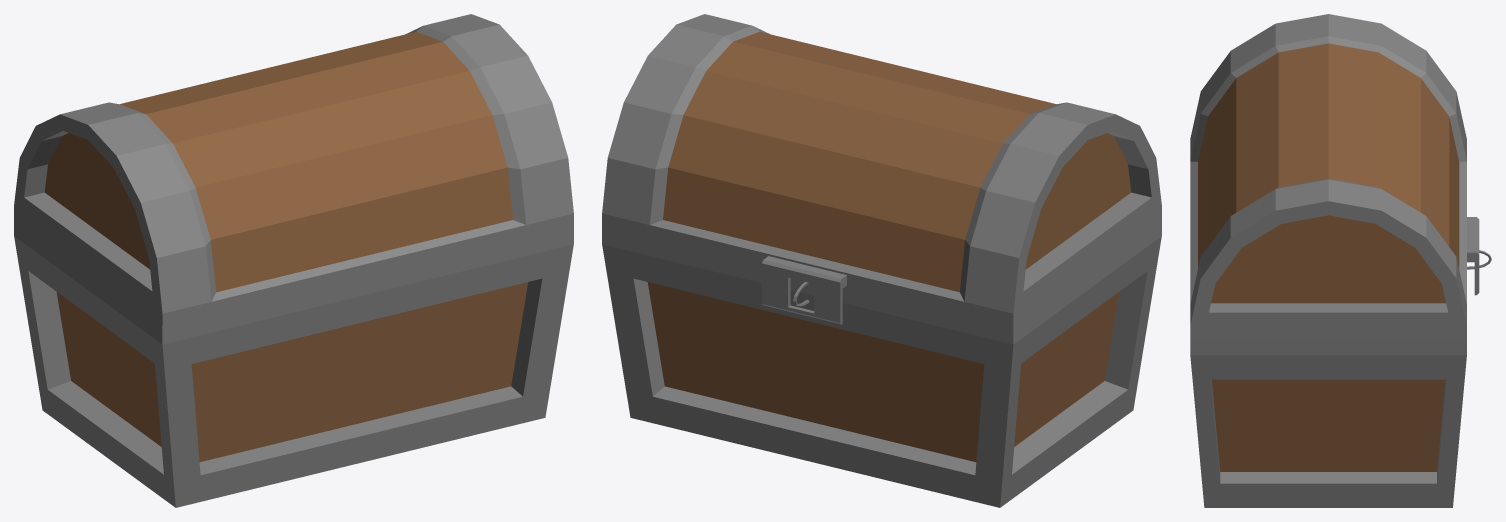
The model's file is Kiste1.glb.
The picture shows the model from 3 angles, left to right: view 1: azimuth 30°, elevation 25°; view 2: azimuth 150°, elevation 25°; view 3: azimuth 270°, elevation 25°; orthographic projection. The views are drawn at different scales.
Parts seen in each view (by area): view 1: Circle, Bund; view 2: Circle, Bund; view 3: Circle, Bund.
Boxes of the visible parts, x1,y1,x2,y2 form: Circle: (14,14,573,325); Bund: (14,217,573,507); Circle: (602,14,1161,325); Bund: (602,217,1161,507); Circle: (1190,14,1479,337); Bund: (1190,250,1491,507).
Bounding box in the file's own units: 2 × 1.58 × 1.36.
